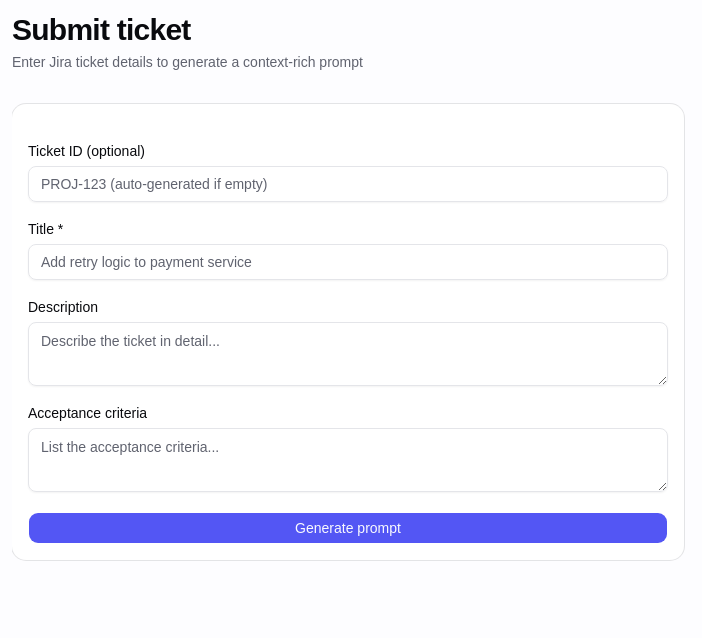
TicketFormPage › shows error on failed submission
The image size is (702, 638).
In the field labelled "Title *": (348, 262) [28,244,668,280], type "Failing ticket"
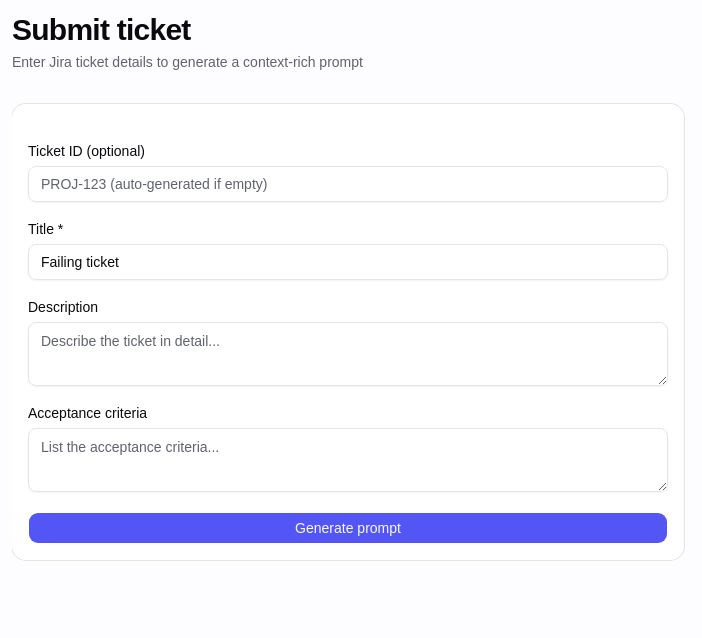
Click the button "Generate prompt": (348, 528) [28,512,668,544]
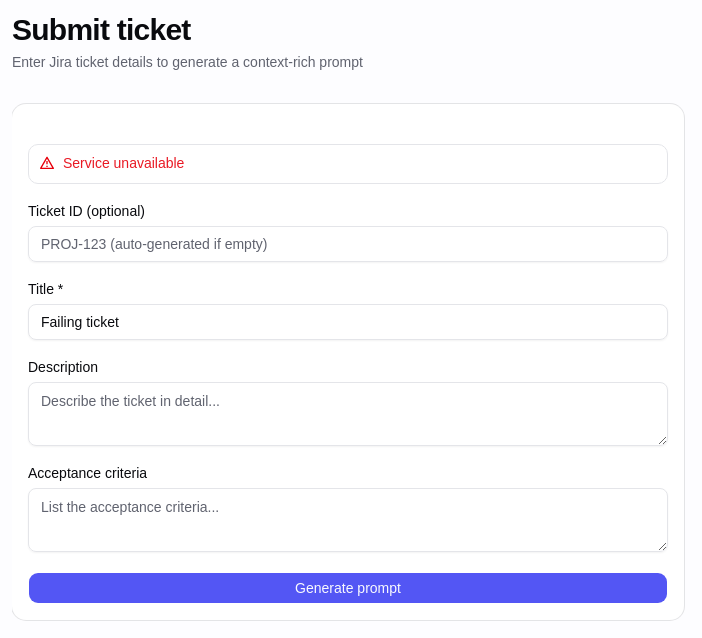
Now the text "Service unavailable" is shown, box [63,155,184,171]
